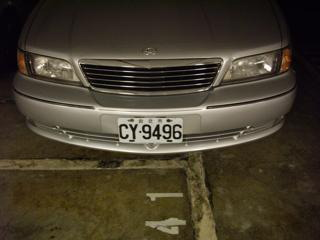plate: (116, 116, 186, 146)
